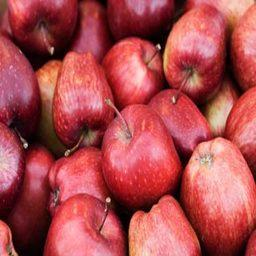apple: (103, 107, 186, 214), (180, 139, 255, 255), (165, 5, 231, 103), (52, 50, 115, 150), (44, 192, 126, 256), (127, 195, 200, 255), (3, 1, 77, 58), (102, 37, 162, 104), (106, 1, 176, 40)
